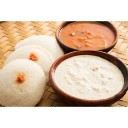idly: (3, 60, 44, 106), (8, 47, 51, 82), (16, 35, 62, 60)
